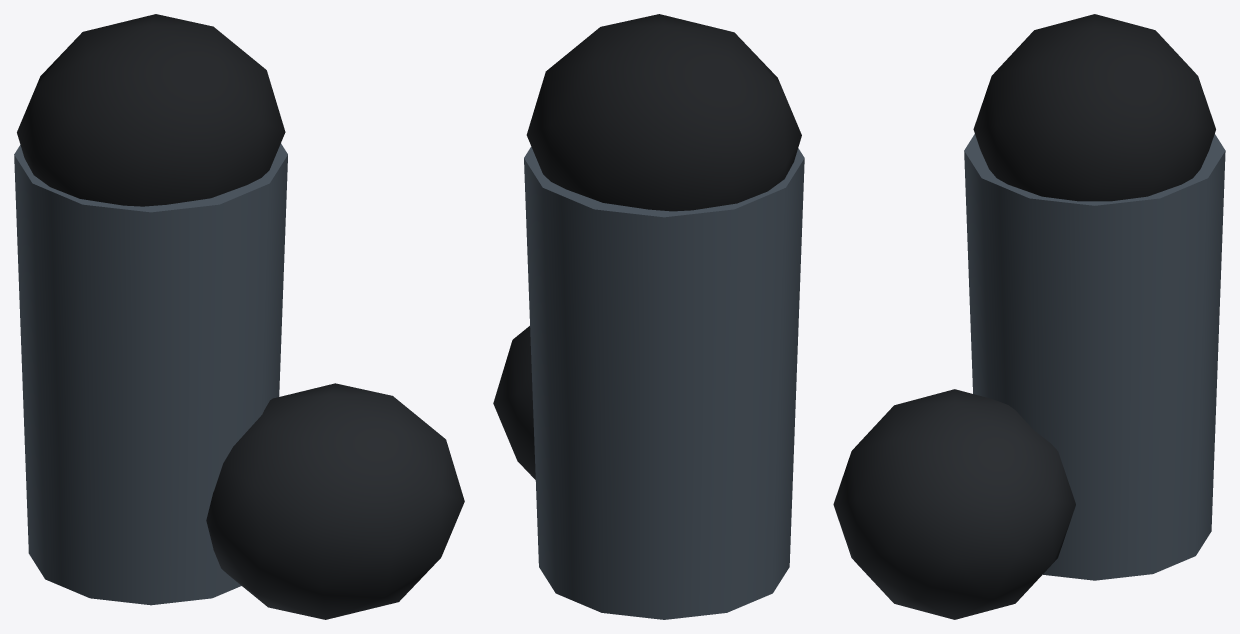
Rendered from trash-bin.obj.
3 views of the same model, side by side, from view 1: azimuth 30°, elevation 25°; view 2: azimuth 150°, elevation 25°; view 3: azimuth 270°, elevation 25° (orthographic). The views are drawn at different scales.
Parts seen in each view (by area): view 1: part1, part3, part2; view 2: part1, part2, part3; view 3: part1, part3, part2.
Boxes of the visible parts, x1,y1,x2,y2 form: part1: (14, 143, 287, 605); part3: (206, 383, 464, 619); part2: (17, 14, 285, 206); part1: (524, 146, 804, 619); part2: (526, 14, 801, 211); part3: (493, 326, 535, 479); part1: (964, 134, 1225, 580); part3: (833, 389, 1075, 619); part2: (973, 14, 1215, 201).
Bounding box in the file's own units: 0.81 × 1.25 × 0.84.
